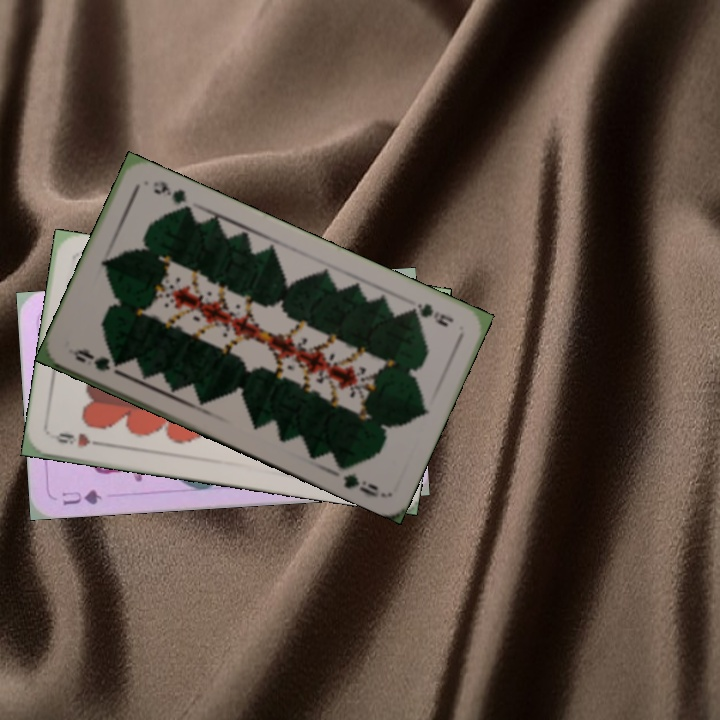G9: (67, 344, 124, 378), (403, 299, 456, 330)
GU: (57, 486, 105, 508)
H9: (49, 428, 108, 450)
